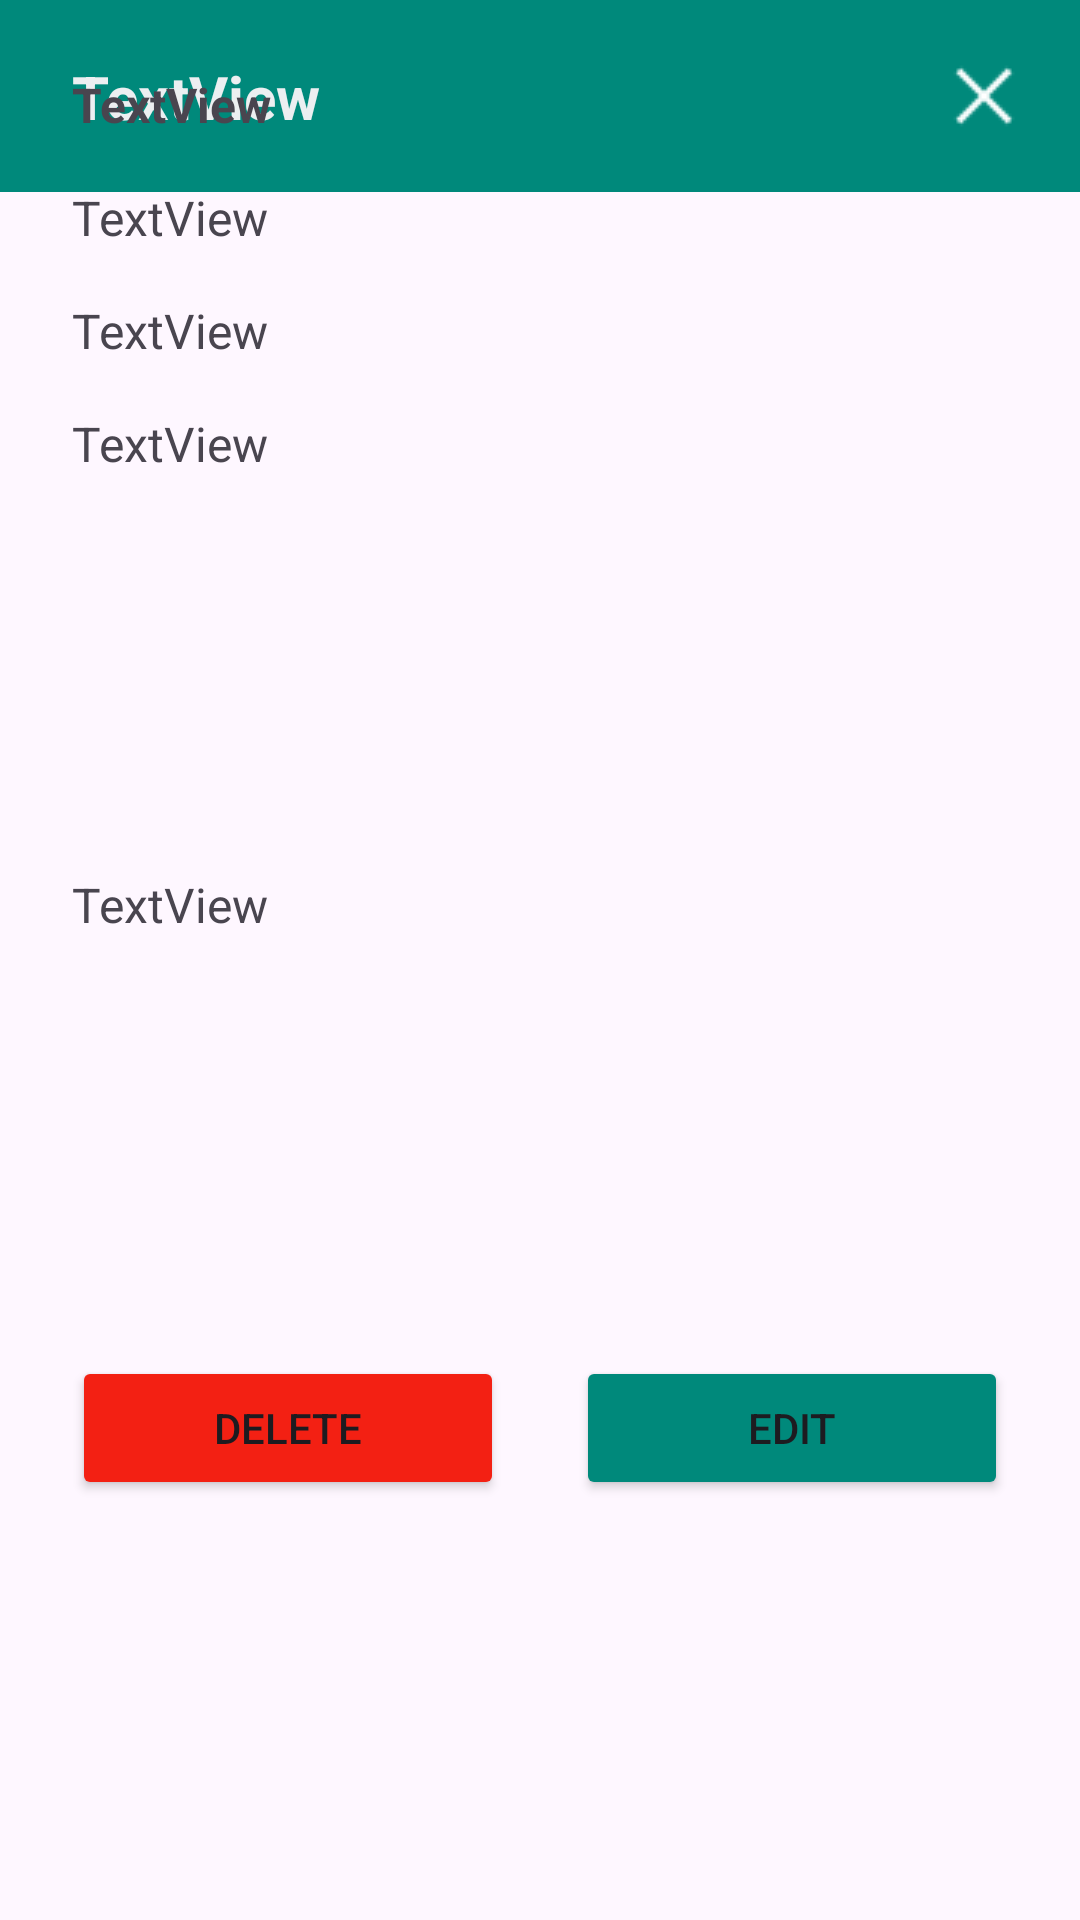

Named icons in this screenshot (1080 x 1920) and their bounding boxes, region(x1, y1, x2, y2):
Close: region(956, 68, 1012, 124)
